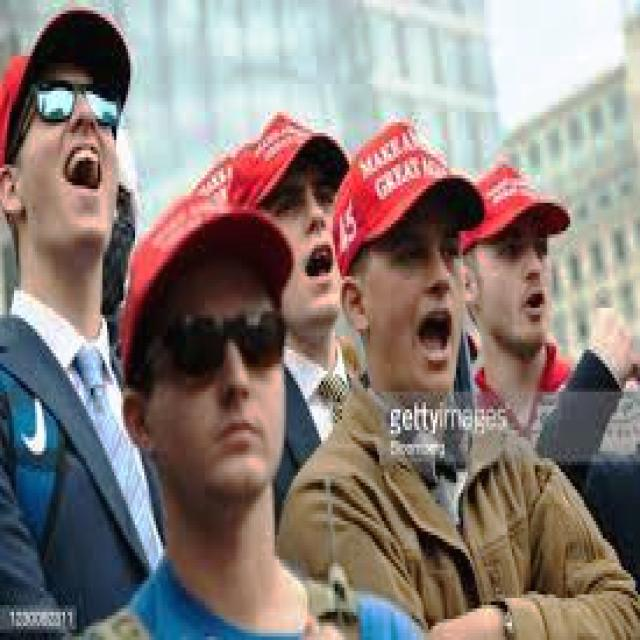TOPI: (112, 192, 296, 364), (326, 112, 486, 273), (0, 3, 133, 182), (224, 105, 352, 210), (445, 154, 577, 245), (177, 140, 244, 217)
